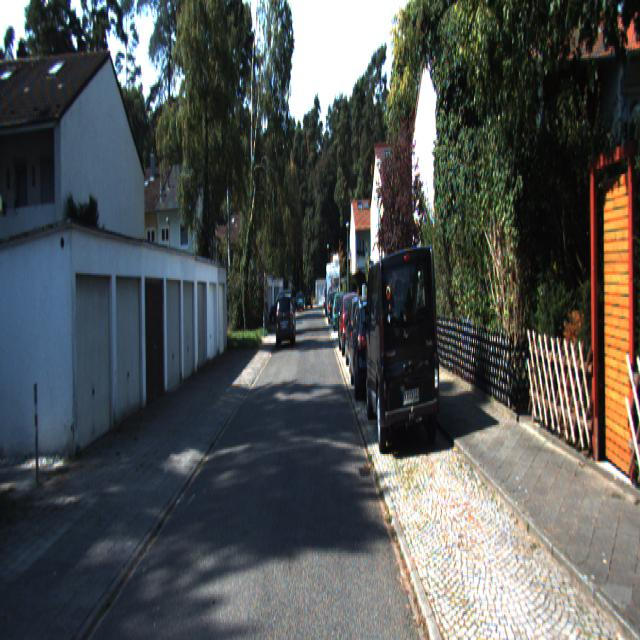Car: (362, 242, 440, 458), (348, 294, 390, 399), (345, 294, 375, 372), (276, 294, 296, 348), (326, 261, 340, 319)
